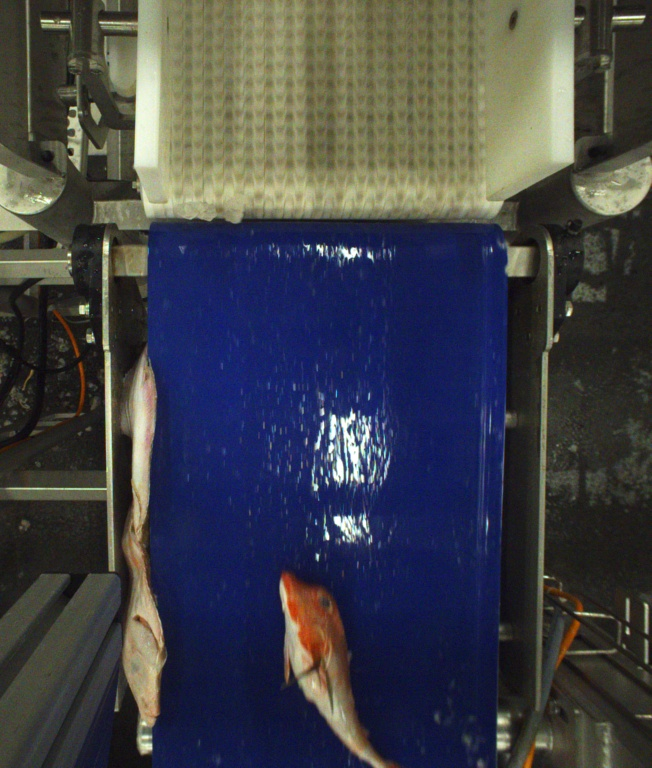GUU: (271, 571, 396, 768)
